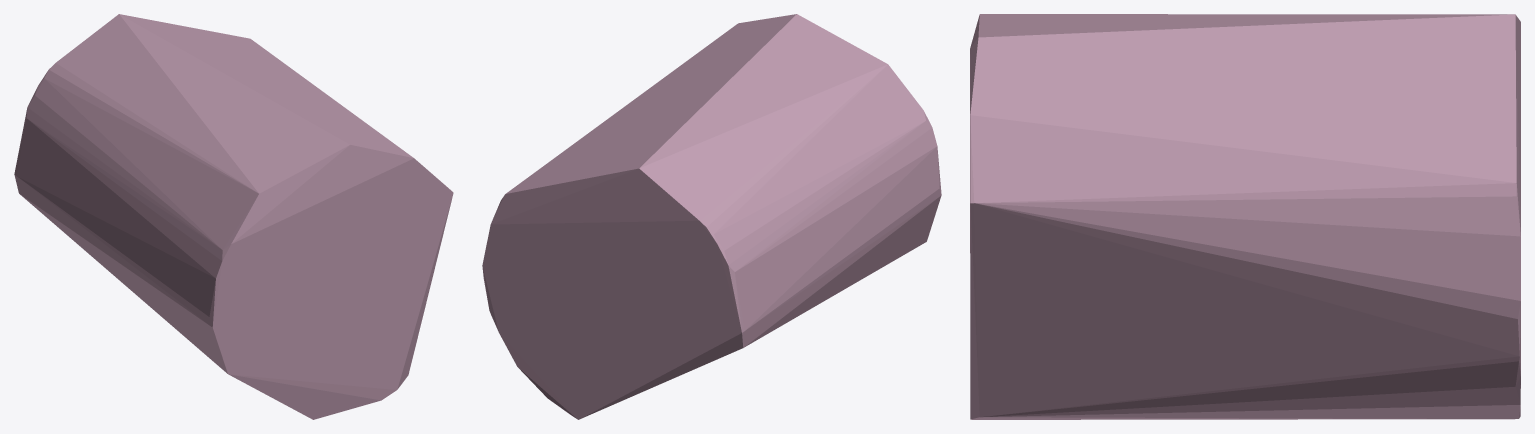
Rendered from food_canned_beans_a01.glb.
3 views of the same model, side by side, from view 1: azimuth 30°, elevation 25°; view 2: azimuth 150°, elevation 25°; view 3: azimuth 270°, elevation 25° (orthographic). The views are drawn at different scales.
Visible parts, largest first — view 1: geometry_0; view 2: geometry_0; view 3: geometry_0.
Part boxes in pixels (left/top/right/bottom): geometry_0: left=14, top=14, right=453, bottom=419; geometry_0: left=482, top=14, right=941, bottom=419; geometry_0: left=970, top=14, right=1520, bottom=419.
Size of the model in its own units: 0.3568 by 0.3531 by 0.4785.
